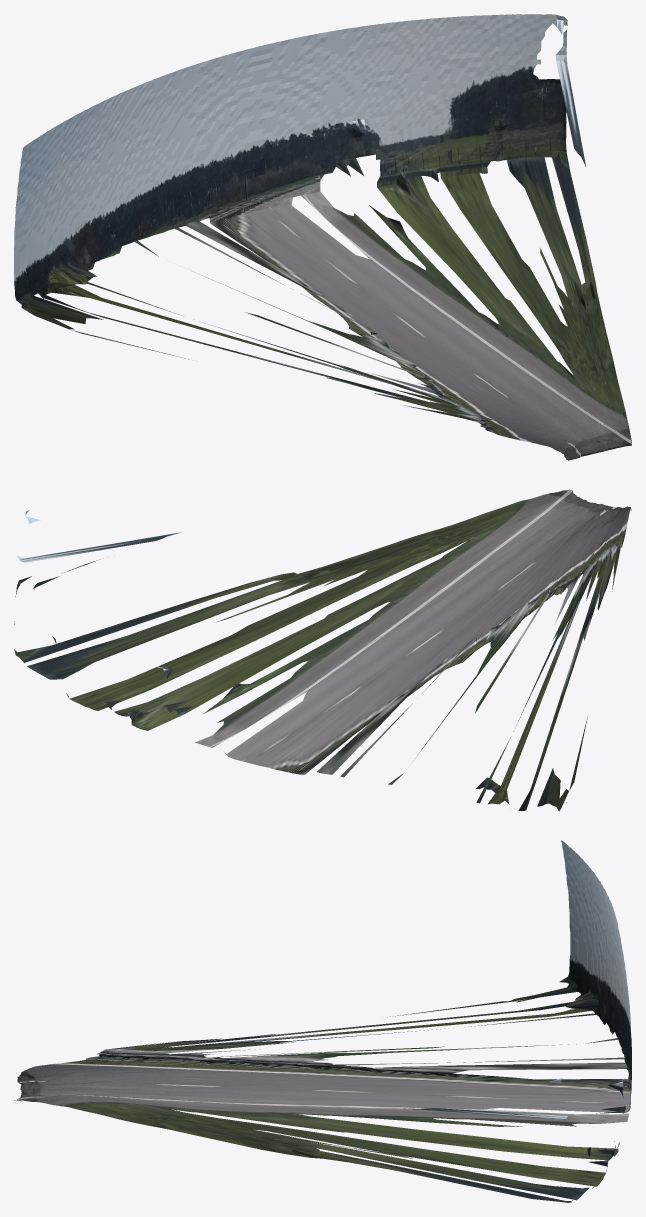
3 views of the same model, one above another, from view 1: azimuth 30°, elevation 25°; view 2: azimuth 150°, elevation 25°; view 3: azimuth 270°, elevation 25° (orthographic). The views are drawn at different scales.
Parts seen in each view (by area): view 1: defaultobject; view 2: defaultobject; view 3: defaultobject.
Boxes of the visible parts, x1,y1,x2,y2 form: defaultobject: [14, 14, 631, 460]; defaultobject: [14, 489, 631, 811]; defaultobject: [14, 840, 631, 1202].
Size of the model in its own units: 41.09 by 12.9 by 44.73.
Materials: 1 (1 with a texture image).
